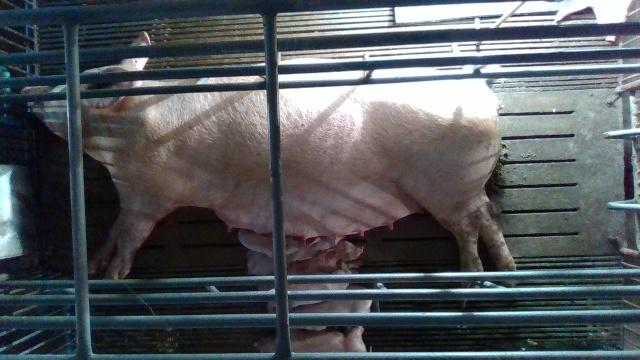piglet: (268, 286, 373, 331), (267, 261, 352, 311), (247, 240, 364, 274), (253, 325, 373, 352), (238, 228, 300, 260)
sow-sleep-lactate: (21, 30, 519, 285)
